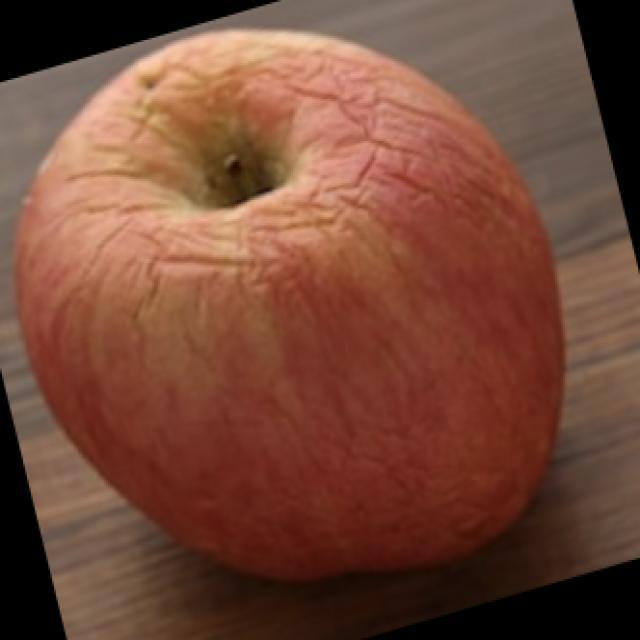Rotten: (35, 35, 568, 598)
